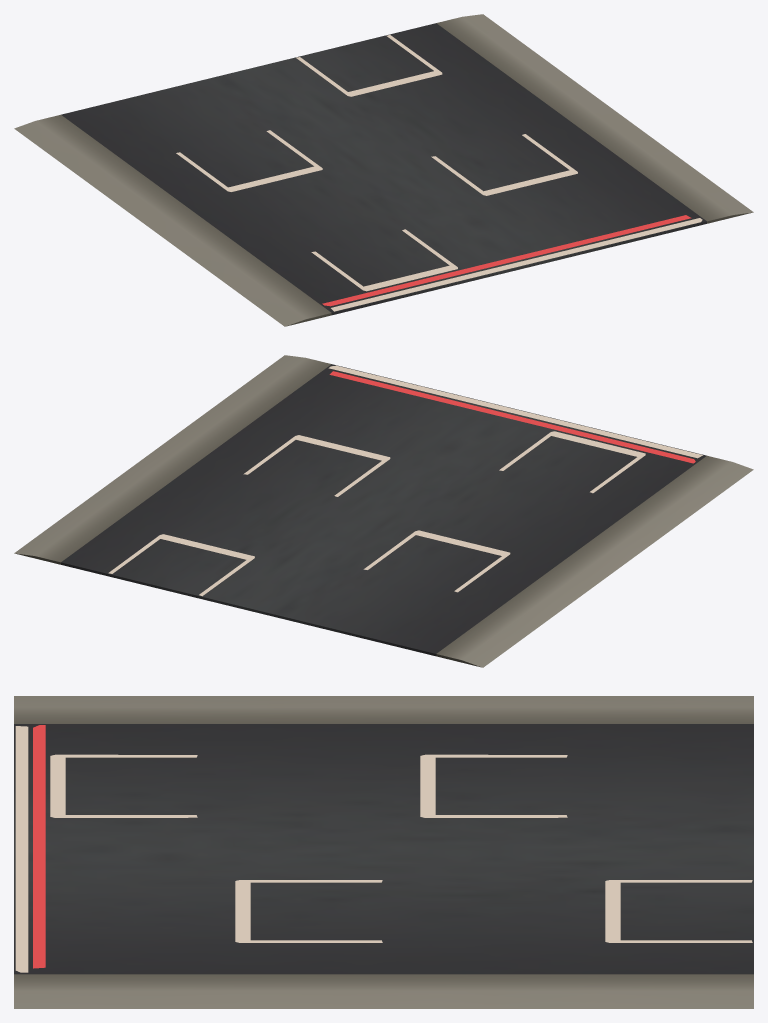
File: Straight_1B.fbx
3 views of the same model, one above another, from view 1: azimuth 30°, elevation 25°; view 2: azimuth 150°, elevation 25°; view 3: azimuth 270°, elevation 25° (orthographic). The views are drawn at different scales.
Visible parts, largest first — view 1: Straight_1B; view 2: Straight_1B; view 3: Straight_1B.
Boxes of the visible parts, <box> form: Straight_1B: <box>14,14,753,326</box>; Straight_1B: <box>14,355,753,667</box>; Straight_1B: <box>14,696,753,1008</box>.
Size of the model in its own units: 2000 by 10.65 by 2000.
